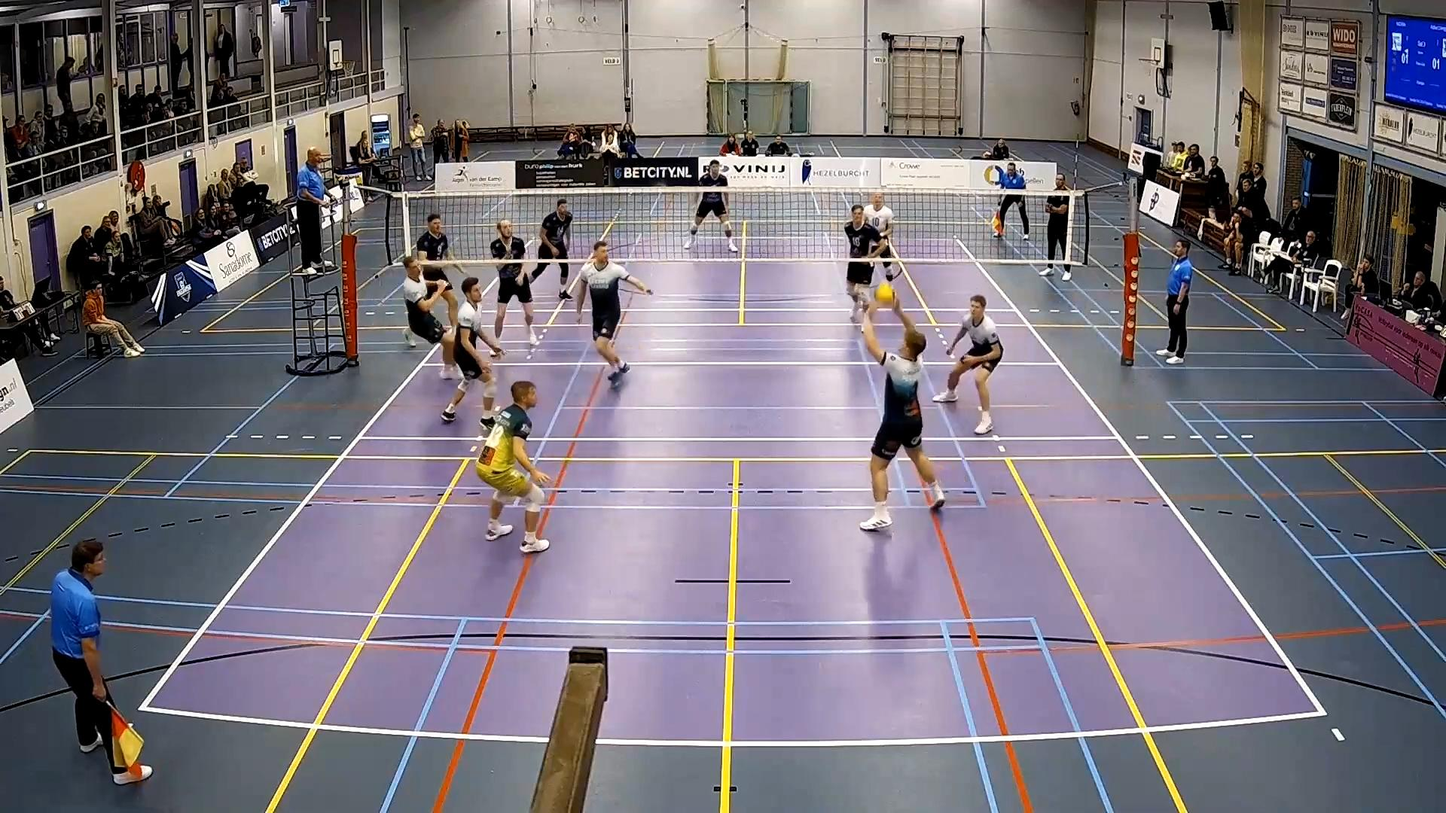Dig: (852, 305, 953, 529)
Player: (476, 381, 549, 553), (576, 242, 651, 382), (933, 294, 1002, 434), (441, 277, 503, 427), (402, 257, 459, 378), (490, 220, 538, 346), (415, 213, 458, 330), (684, 160, 737, 252), (844, 204, 883, 322), (531, 199, 572, 299), (864, 191, 896, 281)
ball: (869, 285, 899, 307)
